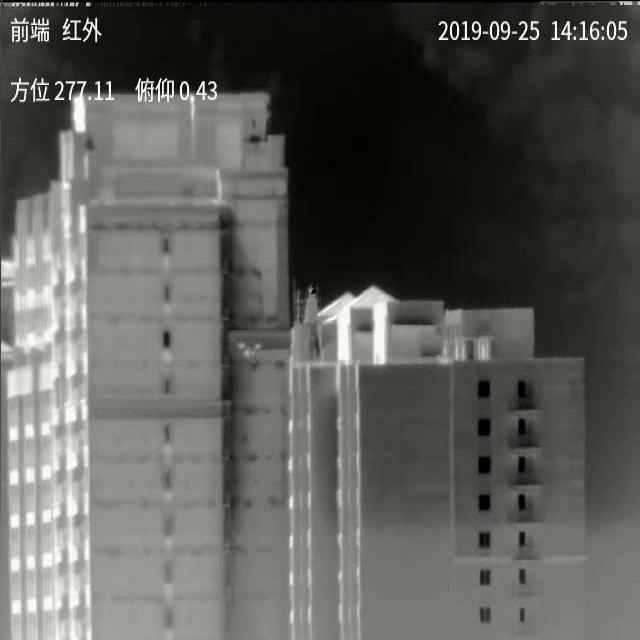drone: (235, 341, 262, 364)
